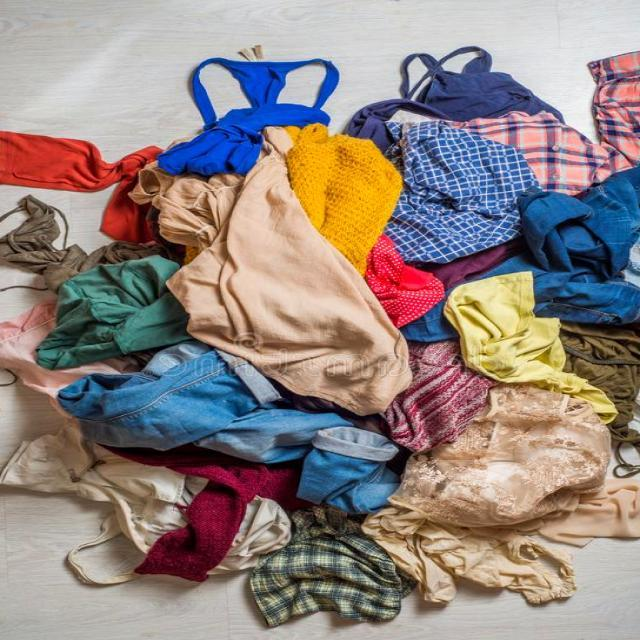clothes: (178, 136, 414, 410), (372, 385, 640, 615), (390, 48, 640, 272), (0, 440, 284, 590), (148, 45, 348, 183), (445, 275, 607, 423), (254, 503, 419, 631), (0, 131, 148, 240)
